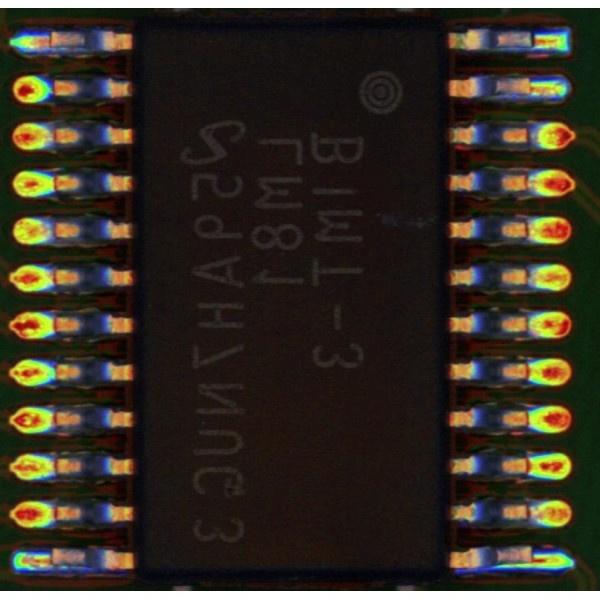Bad_podu: (515, 507, 547, 521), (35, 553, 61, 565), (40, 35, 61, 49), (524, 38, 553, 48), (523, 84, 545, 95), (525, 554, 541, 563)
Bad_qiaojiao: (492, 562, 531, 568)
